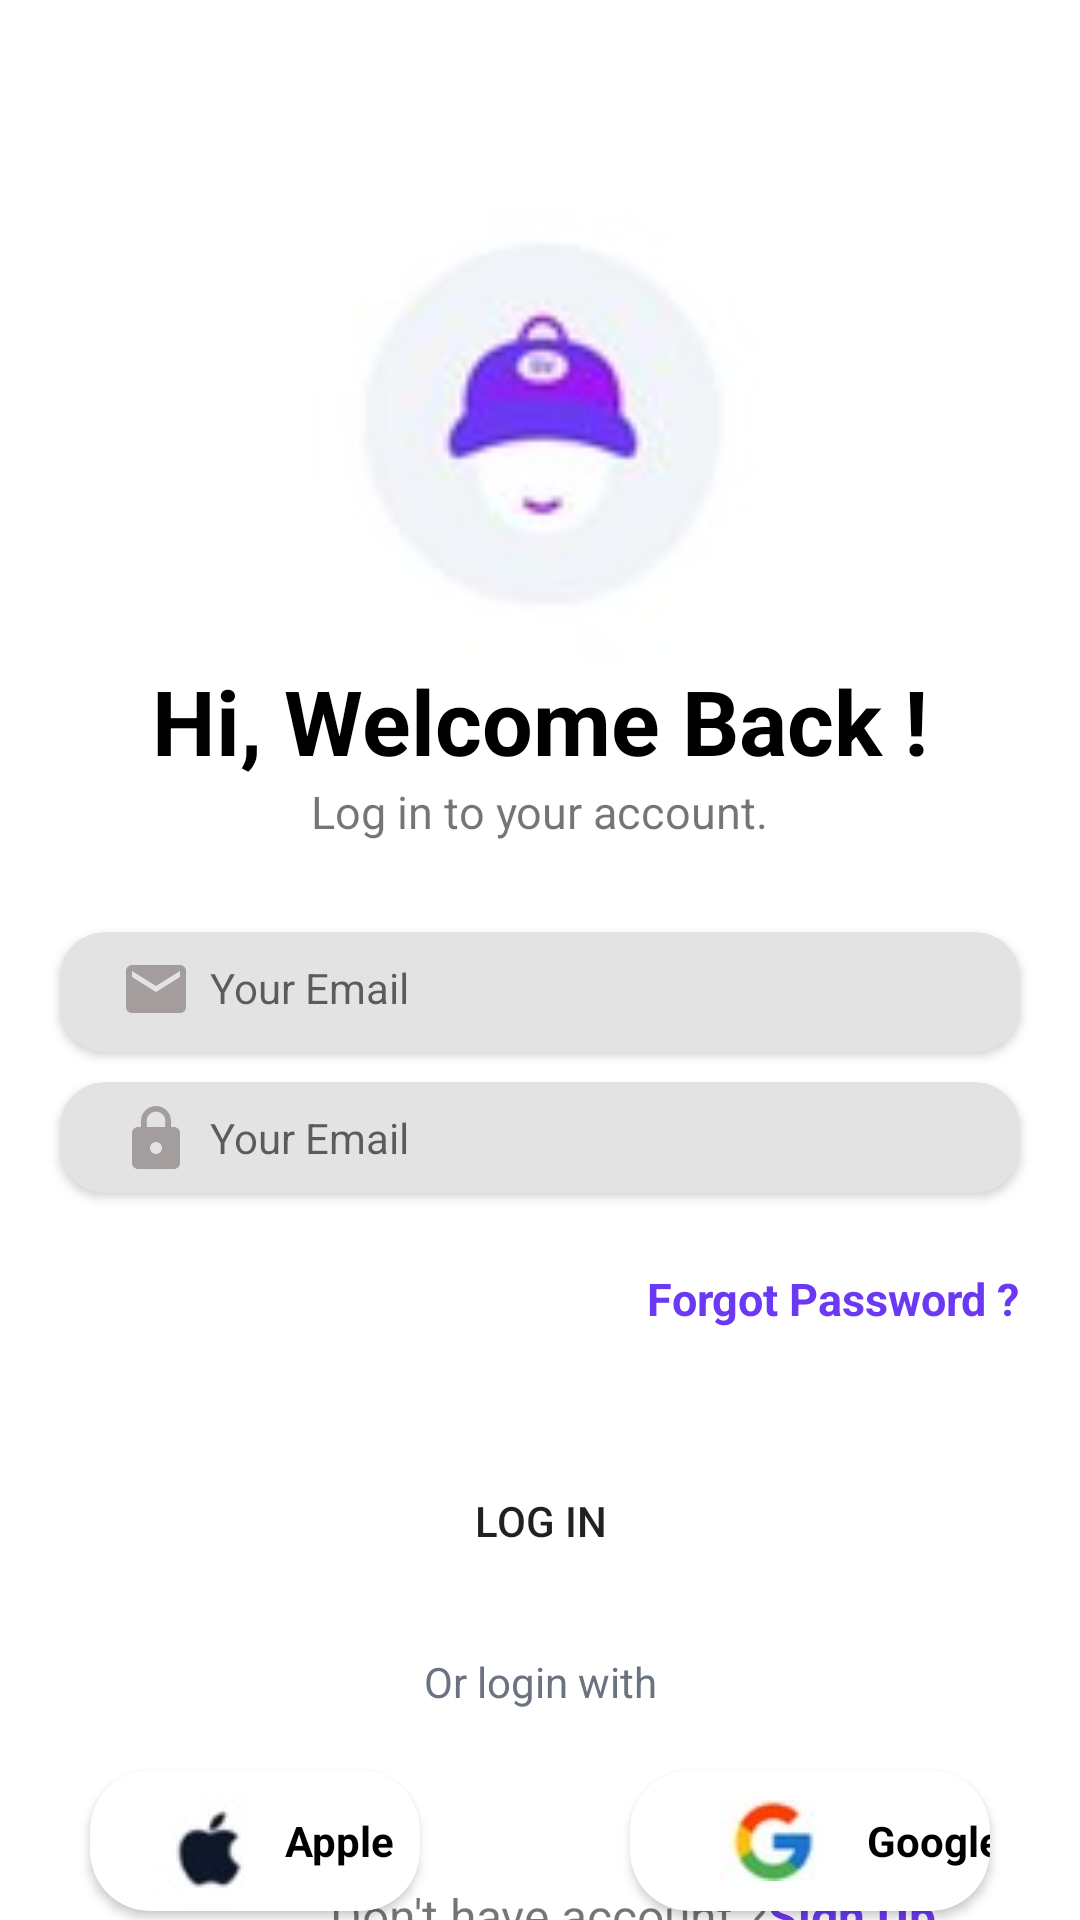

Screen size 1080×1920. Icon name, then its center in pixels as [x,y]:
lock: [156,1137]
